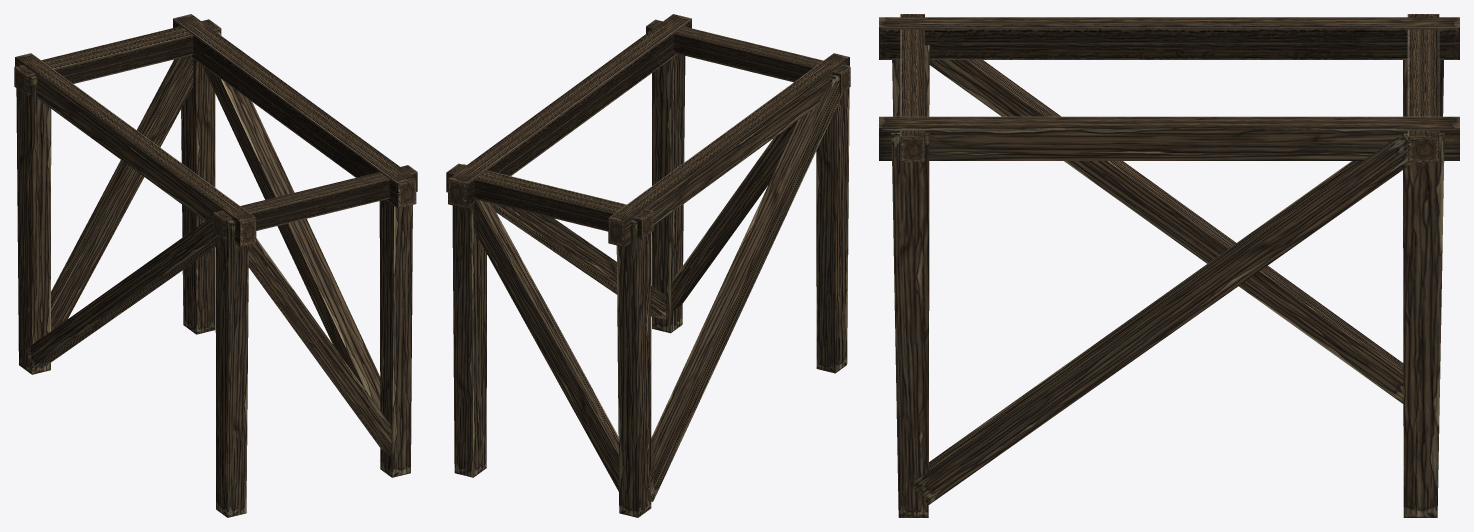
File: Wood_4X6X8_03.fbx
3 views of the same model, side by side, from view 1: azimuth 30°, elevation 25°; view 2: azimuth 150°, elevation 25°; view 3: azimuth 270°, elevation 25° (orthographic). The views are drawn at different scales.
Visible parts, largest first — view 1: Wood_4X6X8_03; view 2: Wood_4X6X8_03; view 3: Wood_4X6X8_03.
Boxes of the visible parts, x1,y1,x2,y2 form: Wood_4X6X8_03: [14, 14, 417, 517]; Wood_4X6X8_03: [446, 14, 850, 517]; Wood_4X6X8_03: [879, 14, 1459, 517].
Size of the model in its own units: 4 by 5.9 by 8.
